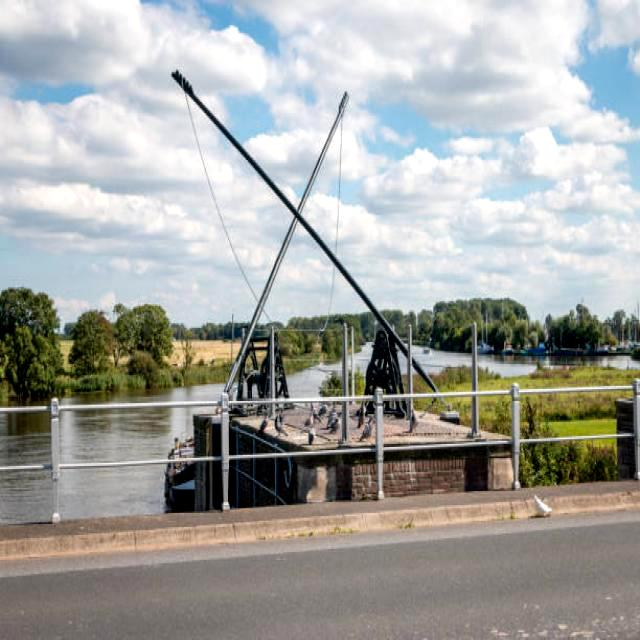Broken Pole: (163, 62, 452, 408), (211, 86, 353, 411)
